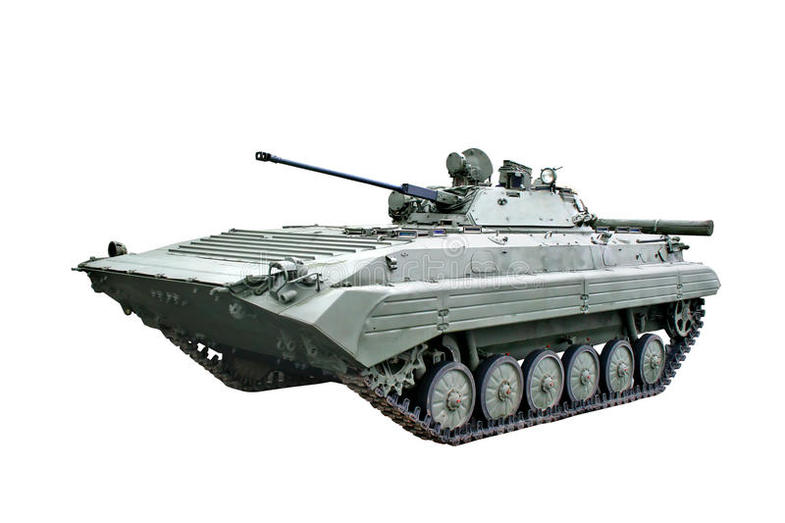bmp: (74, 152, 720, 445)
